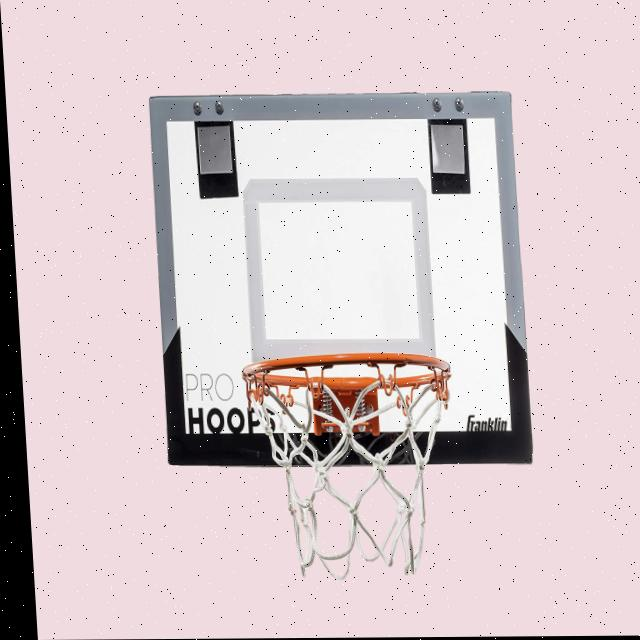hoop: (241, 352, 463, 579)
